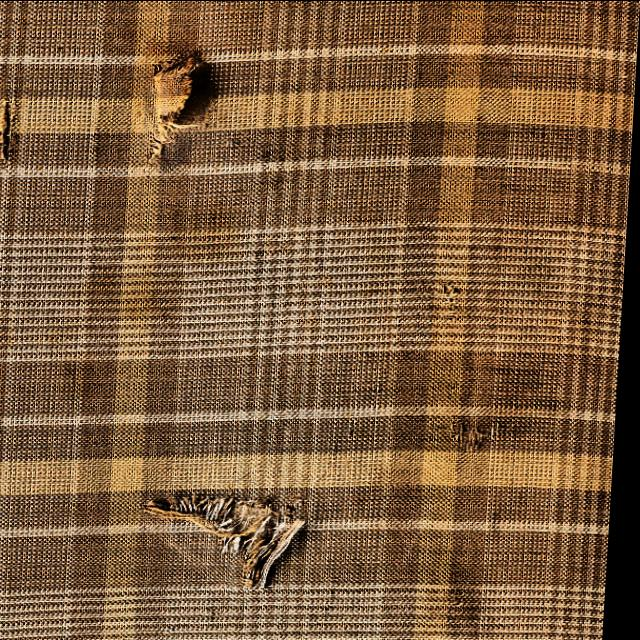Hole: (135, 472, 329, 592), (136, 43, 220, 175), (0, 82, 29, 176)
